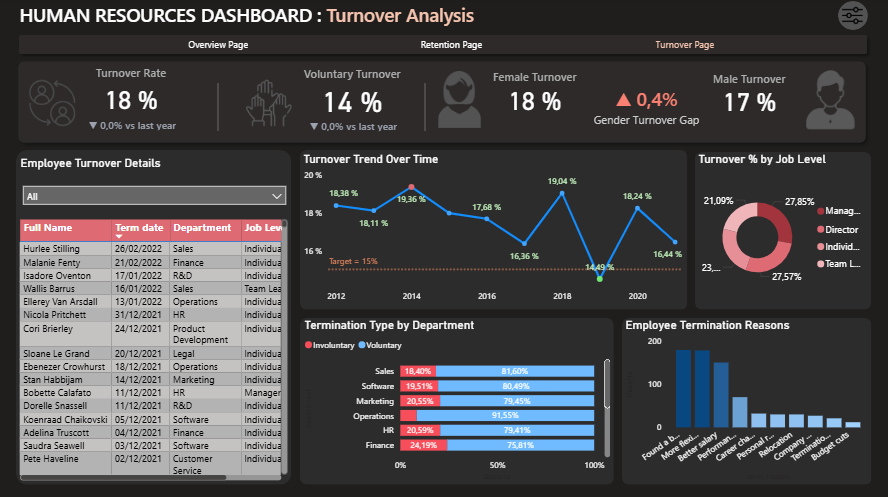

The page's visual inventory and layout, read from the dashboard file:
{"tool":"powerbi","page":{"name":"Turnover Page","canvas":[1280,720],"ordinal":2},"visuals":[{"type":"shape","box":[20.8,46.1,1235.3,41.7],"z":0},{"type":"textbox","box":[23,0,830.9,47.5],"z":1000},{"type":"shape","box":[17.3,82.1,1238.4,135.4],"z":2000},{"type":"shape","box":[431.7,218.4,557.7,230.1],"z":3000},{"type":"shape","box":[431.7,460.3,451.9,240.2],"z":4000},{"type":"hundredPercentStackedBarChart","title":"Termination Type by Department","fields":{"Category":["DepartmentDim.department"],"Series":["TerminationDim.term_type"],"Y":["_Mesures.Departs"]},"box":[433.4,460.3,450.2,238.5],"z":5000},{"type":"shape","box":[23.5,218.4,396.4,482.1],"z":6000},{"type":"cardVisual","fields":{"Data":["_Mesures.Turnover Label"]},"box":[103.7,161.6,193,41.8],"z":7000},{"type":"advanceCardE03760C5AB684758B56AA29F9E6C257B","fields":{"mainMeasure":["_Mesures.Turnover"]},"box":[115.2,92.5,146.9,83.5],"z":8000},{"type":"shape","box":[292.3,122.4,43.2,69.1],"z":9000},{"type":"image","box":[41.7,116.1,67,70],"z":10000},{"type":"advanceCardE03760C5AB684758B56AA29F9E6C257B","fields":{"mainMeasure":["_Mesures.Voluntary Turnover %"]},"box":[422.7,93.8,168.2,86.3],"z":11000},{"type":"shape","box":[590.4,122.8,43.2,69.1],"z":12000},{"type":"image","box":[354.2,116.6,66.2,69.1],"z":13000},{"type":"advanceCardE03760C5AB684758B56AA29F9E6C257B","fields":{"mainMeasure":["_Mesures.Female Turnover %"]},"box":[697.1,97.4,146.1,75.6],"z":14000},{"type":"image","box":[618.2,105.8,87.3,82.3],"z":15000},{"type":"cardVisual","fields":{"Data":["_Mesures.Gender Gap %"]},"box":[828.1,105.8,206.6,100.8],"z":16000},{"type":"advanceCardE03760C5AB684758B56AA29F9E6C257B","fields":{"mainMeasure":["_Mesures.Male Turnover %"]},"box":[1004.5,100.8,147.8,72.2],"z":17000},{"type":"image","box":[1147.3,104.1,95.7,85.7],"z":18000},{"type":"shape","box":[1206.7,4.3,43.2,41.8],"z":19000},{"type":"image","box":[1212.5,8.6,30.2,33.1],"z":20000},{"type":"group","id":"g1","title":"Filter Panel","box":[609.8,0.9,666.7,404.6],"z":21000},{"type":"cardVisual","fields":{"Data":["_Mesures.Voluntary Turnover Label"]},"box":[421.2,162.2,193.5,41.7],"z":22000},{"type":"tableEx","fields":{"Values":["PeopleFact.Full Name","PeopleFact.people employment (2).term_date","DepartmentDim.department","JobLevelDim.job_level"]},"box":[23.5,314.1,396.4,386.4],"z":23000},{"type":"slicer","fields":{"Values":["PeopleFact.Full Name"]},"box":[22.3,260.5,398.9,58],"z":24000},{"type":"lineChart","title":"Turnover Trend Over Time","fields":{"Category":["Dates.Year"],"Y":["_Mesures.Turnover"]},"box":[431.6,221.8,558.1,226.2],"z":25000},{"type":"shape","box":[895.3,460.3,359.5,240.2],"z":26000},{"type":"shape","box":[1001.2,221.7,253.6,226.8],"z":27000},{"type":"donutChart","title":"Turnover % by Job Level","fields":{"Category":["JobLevelDim.job_level"],"Y":["_Mesures.Turnover"]},"box":[1001.2,221.7,253.6,226.8],"z":28000},{"type":"clusteredColumnChart","title":"Employee Termination Reasons","fields":{"Category":["TerminationDim.term_reason"],"Y":["_Mesures.Departs"]},"box":[895.3,460.3,359.5,238.5],"z":29000},{"type":"textbox","box":[23.8,221.8,300.7,38.7],"z":31000},{"type":"pageNavigator","box":[151.8,52.1,1000.2,29.8],"z":32000}]}

Visuals, with their boxes in screenshot pixels (x1, y1, x2, y2), scaled from the page's 1280x720 canvas onto the 888x497 screenshot:
shape: pyautogui.locateOnScreen(14, 32, 871, 61)
textbox: pyautogui.locateOnScreen(16, 0, 592, 33)
shape: pyautogui.locateOnScreen(12, 57, 871, 150)
shape: pyautogui.locateOnScreen(299, 151, 686, 310)
shape: pyautogui.locateOnScreen(299, 318, 613, 484)
"Termination Type by Department" hundredPercentStackedBarChart: pyautogui.locateOnScreen(301, 318, 613, 482)
shape: pyautogui.locateOnScreen(16, 151, 291, 484)
cardVisual - _Mesures.Turnover Label: pyautogui.locateOnScreen(72, 112, 206, 140)
advanceCardE03760C5AB684758B56AA29F9E6C257B - _Mesures.Turnover: pyautogui.locateOnScreen(80, 64, 182, 121)
shape: pyautogui.locateOnScreen(203, 84, 233, 132)
image: pyautogui.locateOnScreen(29, 80, 75, 128)
advanceCardE03760C5AB684758B56AA29F9E6C257B - _Mesures.Voluntary Turnover %: pyautogui.locateOnScreen(293, 65, 410, 124)
shape: pyautogui.locateOnScreen(410, 85, 440, 132)
image: pyautogui.locateOnScreen(246, 80, 292, 128)
advanceCardE03760C5AB684758B56AA29F9E6C257B - _Mesures.Female Turnover %: pyautogui.locateOnScreen(484, 67, 585, 119)
image: pyautogui.locateOnScreen(429, 73, 489, 130)
cardVisual - _Mesures.Gender Gap %: pyautogui.locateOnScreen(574, 73, 718, 143)
advanceCardE03760C5AB684758B56AA29F9E6C257B - _Mesures.Male Turnover %: pyautogui.locateOnScreen(697, 70, 799, 119)
image: pyautogui.locateOnScreen(796, 72, 862, 131)
shape: pyautogui.locateOnScreen(837, 3, 867, 32)
image: pyautogui.locateOnScreen(841, 6, 862, 29)
"Filter Panel" group: pyautogui.locateOnScreen(423, 1, 886, 280)
cardVisual - _Mesures.Voluntary Turnover Label: pyautogui.locateOnScreen(292, 112, 426, 141)
tableEx - PeopleFact.Full Name x PeopleFact.people employment (2).term_date: pyautogui.locateOnScreen(16, 217, 291, 484)
slicer - PeopleFact.Full Name: pyautogui.locateOnScreen(15, 180, 292, 220)
"Turnover Trend Over Time" lineChart: pyautogui.locateOnScreen(299, 153, 687, 309)
shape: pyautogui.locateOnScreen(621, 318, 871, 484)
shape: pyautogui.locateOnScreen(695, 153, 871, 310)
"Turnover % by Job Level" donutChart: pyautogui.locateOnScreen(695, 153, 871, 310)
"Employee Termination Reasons" clusteredColumnChart: pyautogui.locateOnScreen(621, 318, 871, 482)
textbox: pyautogui.locateOnScreen(17, 153, 225, 180)
pageNavigator: pyautogui.locateOnScreen(105, 36, 799, 57)
